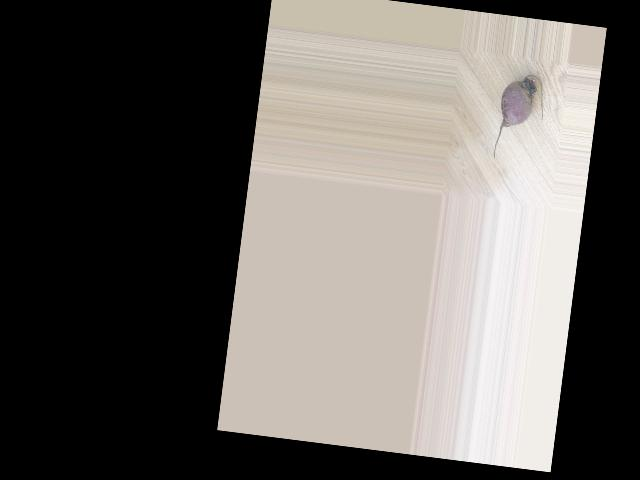beet: (492, 71, 547, 164)
